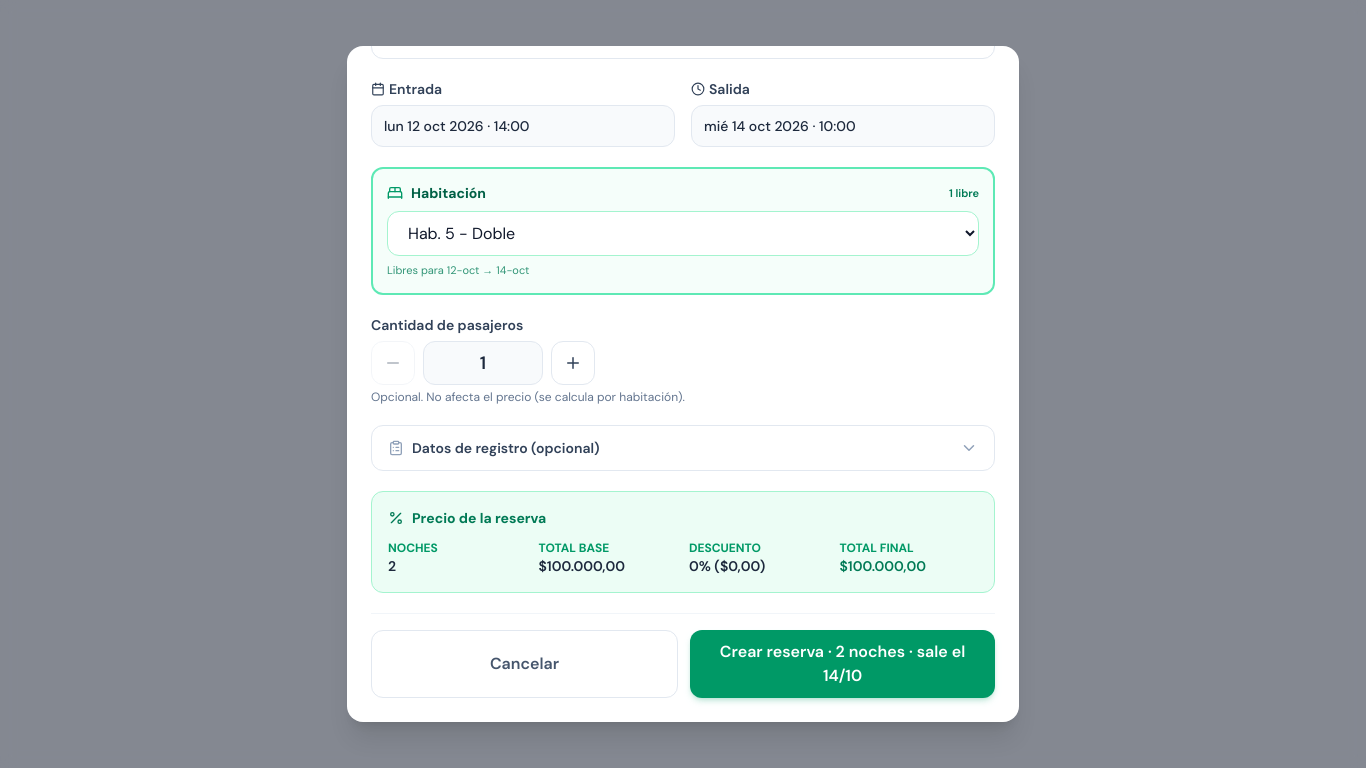
Test: NewReservationModal: el botón dice qué falta › con la habitación elegida y sin huésped, el foco va al nombre
(page scrolled)
Step 1. Click the submit button → [842, 664], box x1=690 y1=630 x2=995 y2=698
(page scrolled)
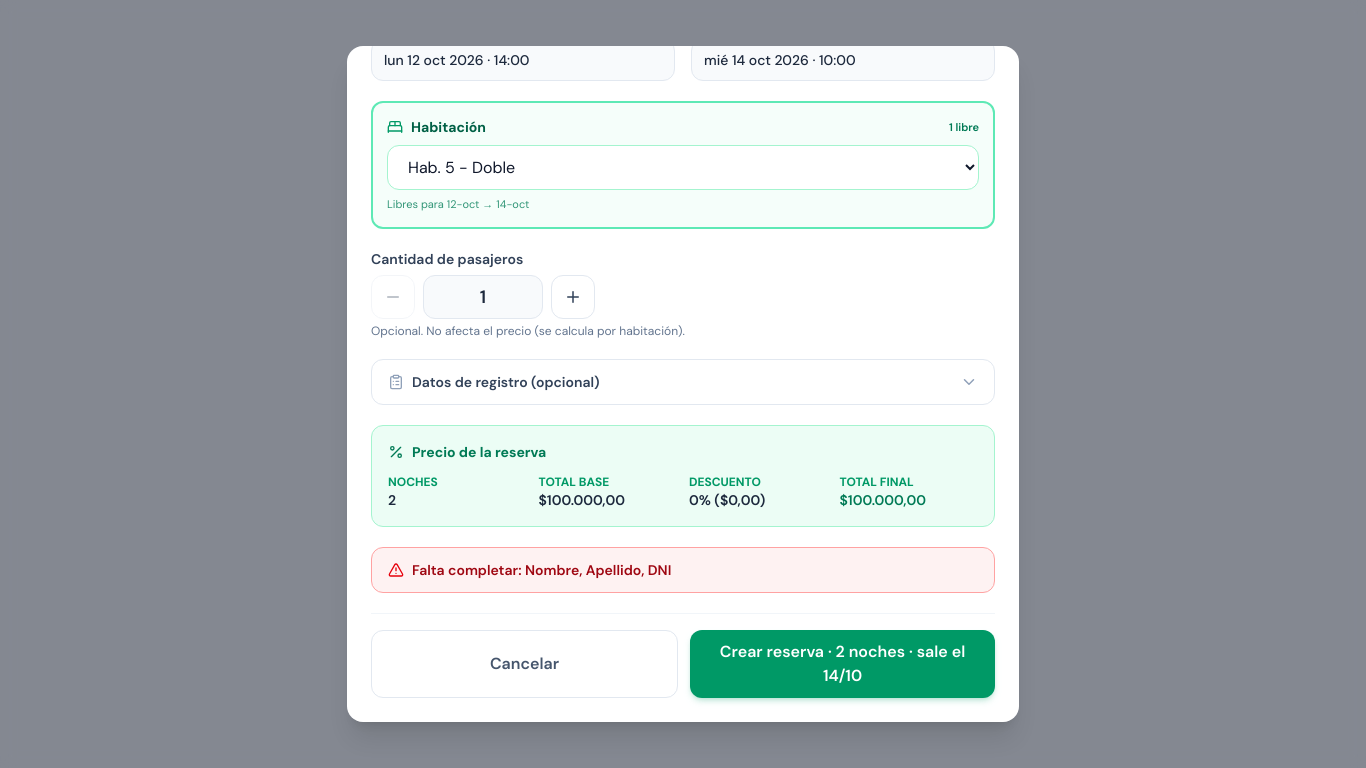
expect the text "Falta completar: Nombre, Apellido, DNI" is shown: met, box x1=412 y1=560 x2=671 y2=580
